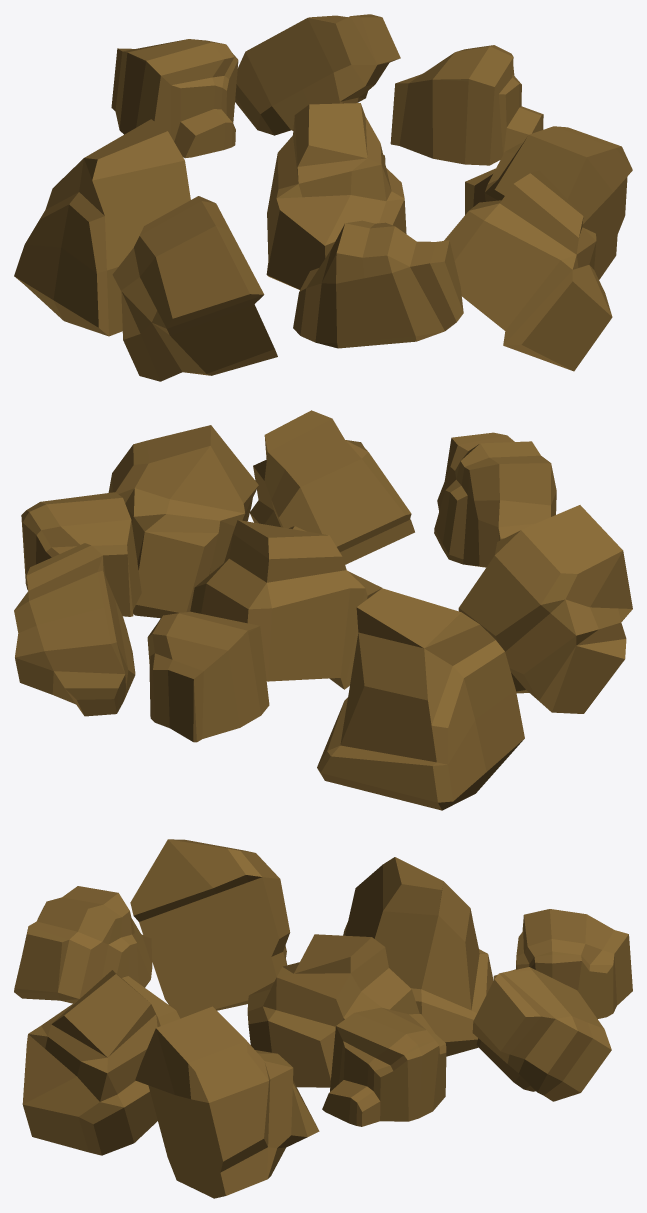
Rendered from Iron.fbx.
3 renders of one model, top to bottom at view 1: azimuth 30°, elevation 25°; view 2: azimuth 150°, elevation 25°; view 3: azimuth 270°, elevation 25°, orthographic. The views are drawn at different scales.
Parts seen in each view (by area): view 1: polySurface10; view 2: polySurface10; view 3: polySurface10.
Part boxes in pixels (x1,y1,x2,y2): polySurface10: [14, 14, 632, 381]; polySurface10: [14, 410, 632, 810]; polySurface10: [14, 839, 632, 1198].
Bounding box in the file's own units: 1.76 × 0.6391 × 1.91.
